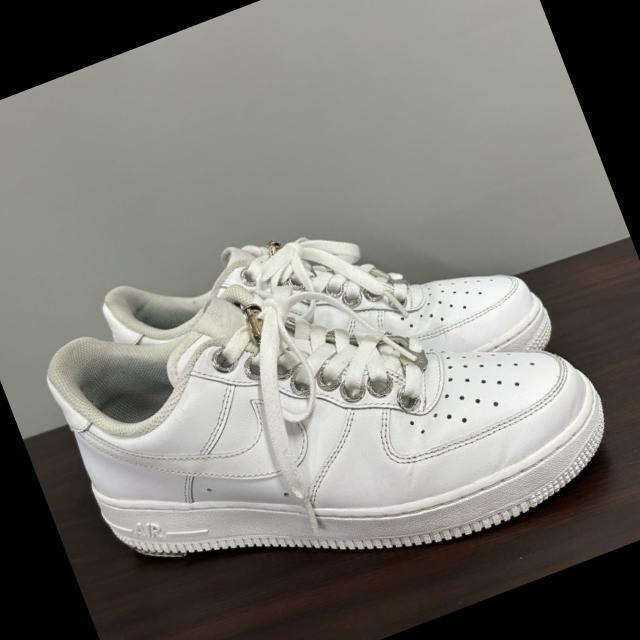nike original air force: (35, 168, 629, 640), (99, 145, 567, 489)
